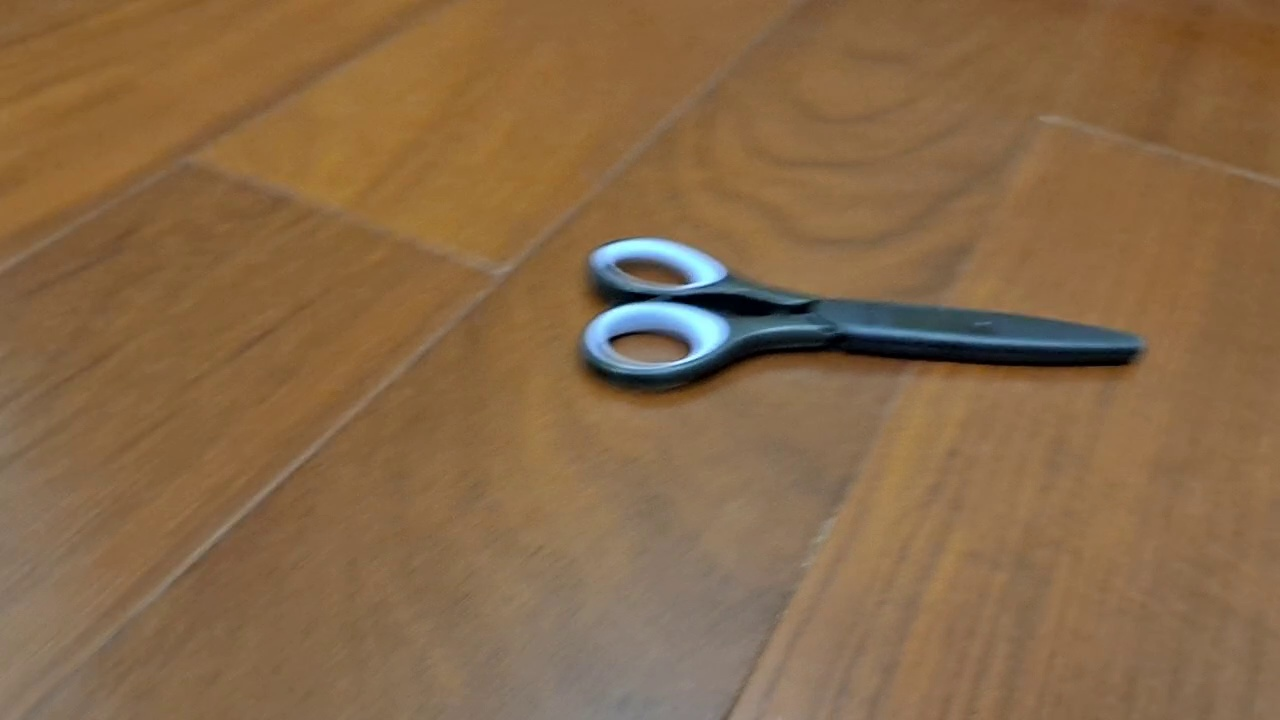scissors: (576, 233, 1149, 398)
